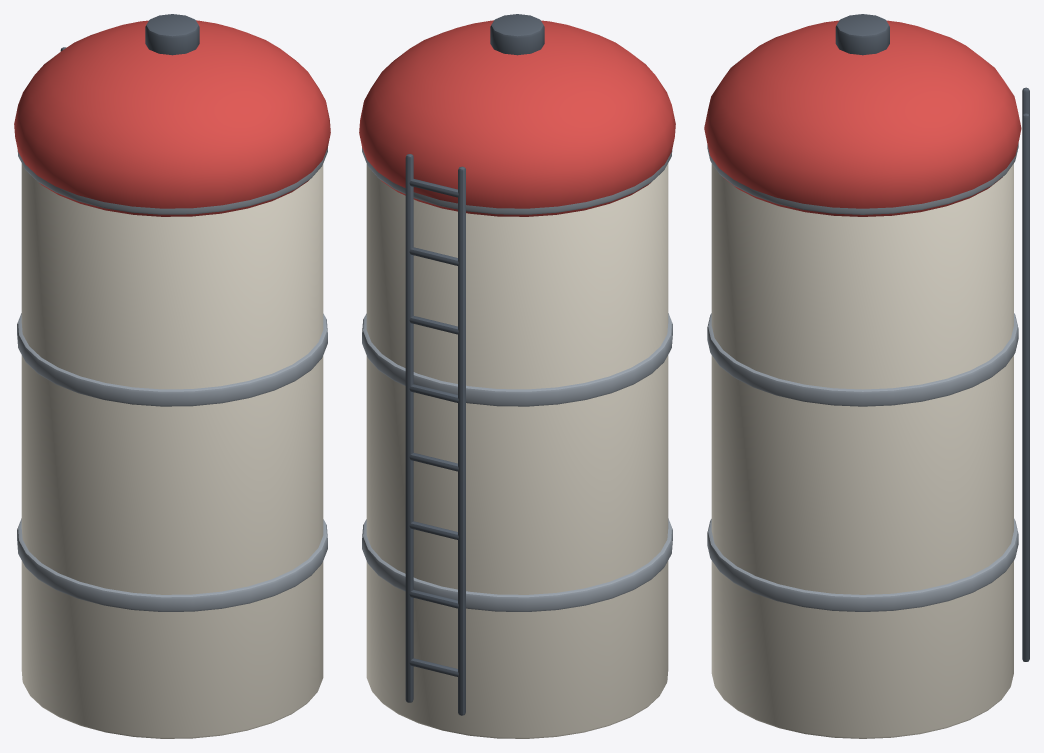
File: silo.glb
3 renders of one model, left to right at view 1: azimuth 30°, elevation 25°; view 2: azimuth 150°, elevation 25°; view 3: azimuth 270°, elevation 25°, orthographic.
Visible parts, largest first — view 1: SiloMesh; view 2: SiloMesh; view 3: SiloMesh.
Part boxes in pixels (x1,y1,x2,y2): SiloMesh: (14, 14, 330, 738); SiloMesh: (359, 14, 675, 738); SiloMesh: (704, 14, 1029, 738).
Bounding box in the file's own units: 2.1 × 4.76 × 2.15.
